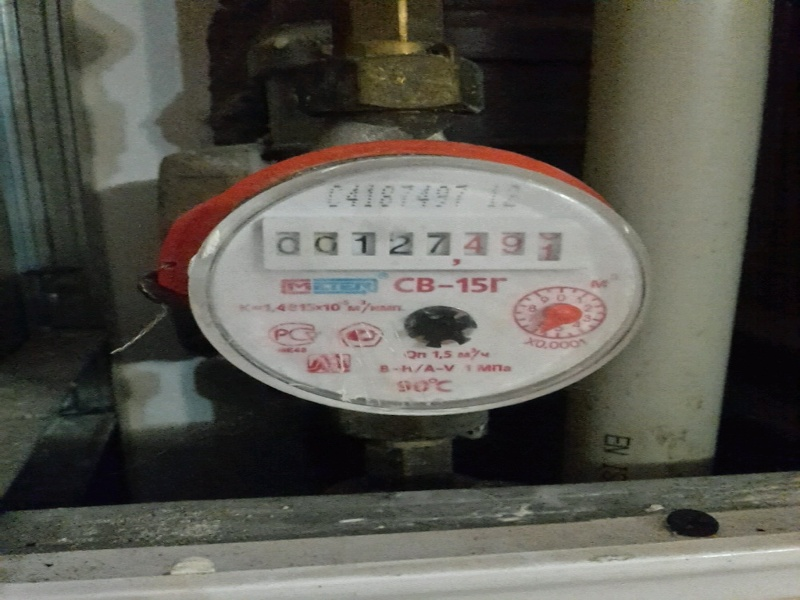meter: (261, 214, 578, 271)
